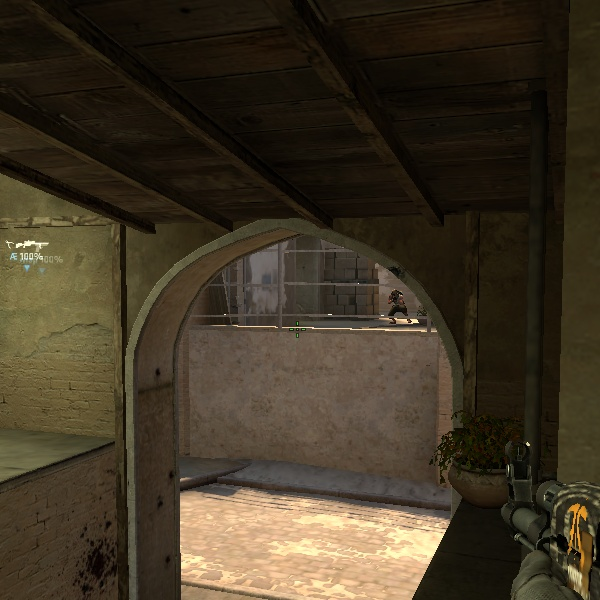t_body: (381, 284, 412, 324)
